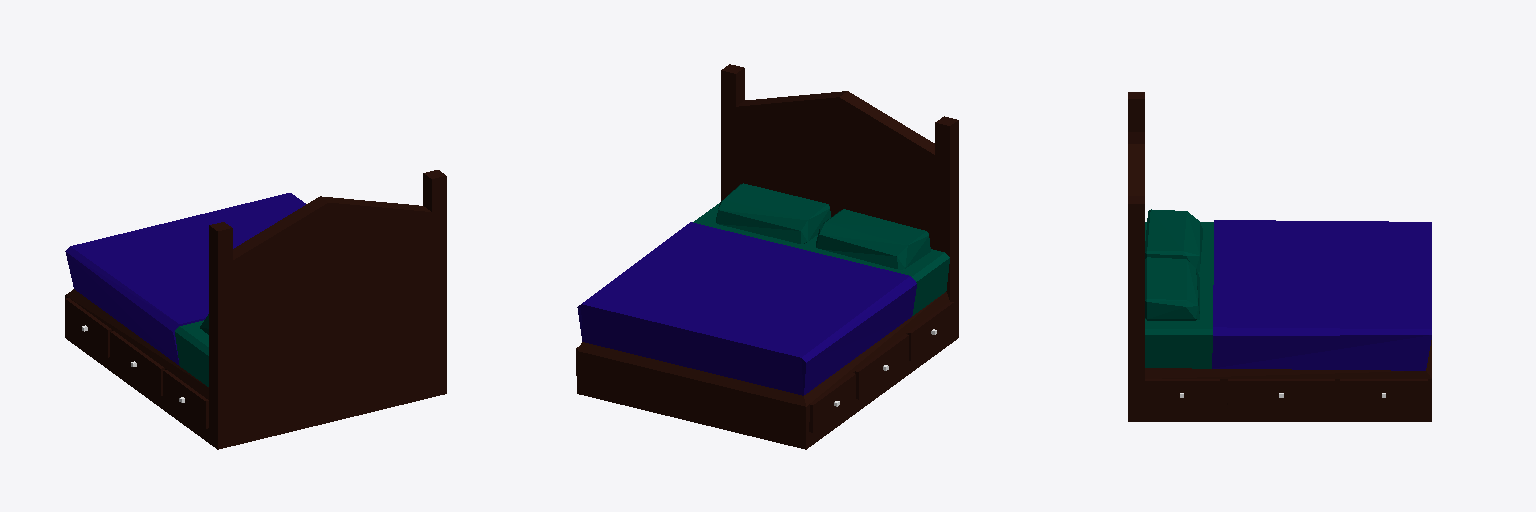
File: bed1.obj
3 views of the same model, side by side, from view 1: azimuth 30°, elevation 25°; view 2: azimuth 150°, elevation 25°; view 3: azimuth 270°, elevation 25° (orthographic).
Parts seen in each view (by area): view 1: group[number redacted], group[number redacted], group[number redacted], group[number redacted]; view 2: group[number redacted], group[number redacted], group[number redacted], group[number redacted], group[number redacted], group[number redacted]; view 3: group[number redacted], group[number redacted], group[number redacted], group[number redacted], group[number redacted], group[number redacted].
Boxes of the visible parts, x1=… form: group[number redacted]: x1=233, y1=196, x2=431, y2=445; group[number redacted]: x1=65, y1=193, x2=305, y2=442; group[number redacted]: x1=209, y1=222, x2=232, y2=449; group[number redacted]: x1=423, y1=170, x2=446, y2=396; group[number redacted]: x1=576, y1=203, x2=953, y2=449; group[number redacted]: x1=736, y1=91, x2=934, y2=249; group[number redacted]: x1=716, y1=183, x2=830, y2=243; group[number redacted]: x1=816, y1=209, x2=930, y2=269; group[number redacted]: x1=935, y1=116, x2=958, y2=343; group[number redacted]: x1=721, y1=64, x2=744, y2=200; group[number redacted]: x1=1145, y1=220, x2=1431, y2=421; group[number redacted]: x1=1128, y1=196, x2=1144, y2=421; group[number redacted]: x1=1145, y1=257, x2=1199, y2=320; group[number redacted]: x1=1145, y1=209, x2=1202, y2=271; group[number redacted]: x1=1128, y1=132, x2=1144, y2=195; group[number redacted]: x1=1128, y1=92, x2=1144, y2=131.
Bounding box in the file's own units: 1.32 × 1.14 × 1.43.